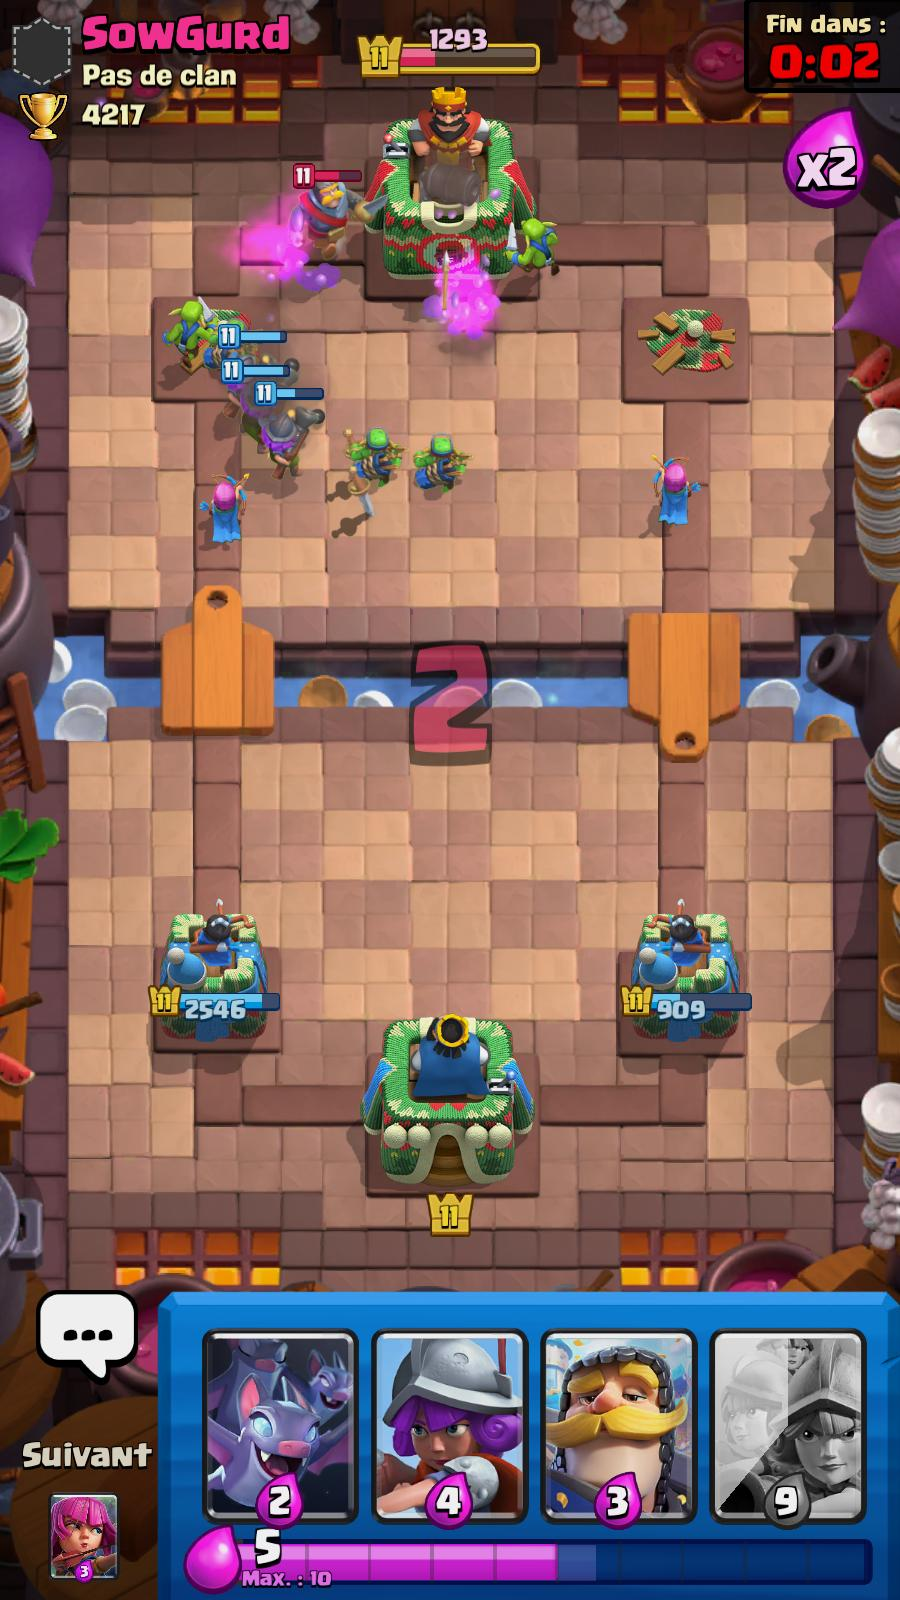archere: (648, 453, 705, 527), (204, 468, 252, 542)
chevalier: (292, 165, 391, 267)
gobelin: (173, 295, 214, 364)
gobelin_lances: (344, 422, 400, 487), (413, 432, 466, 497), (199, 315, 249, 373)
mousquetaire: (255, 378, 325, 476), (220, 362, 289, 442)
